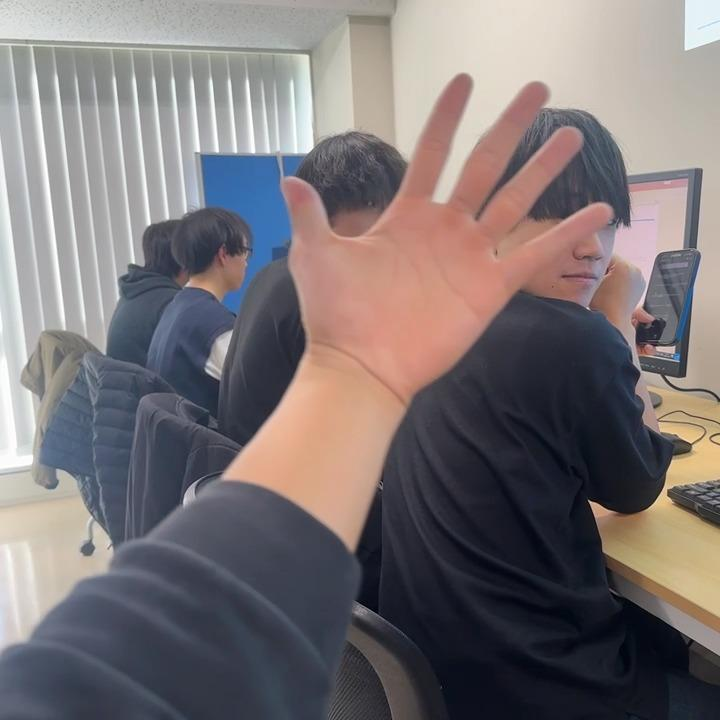without_gloves: (250, 36, 641, 394)
